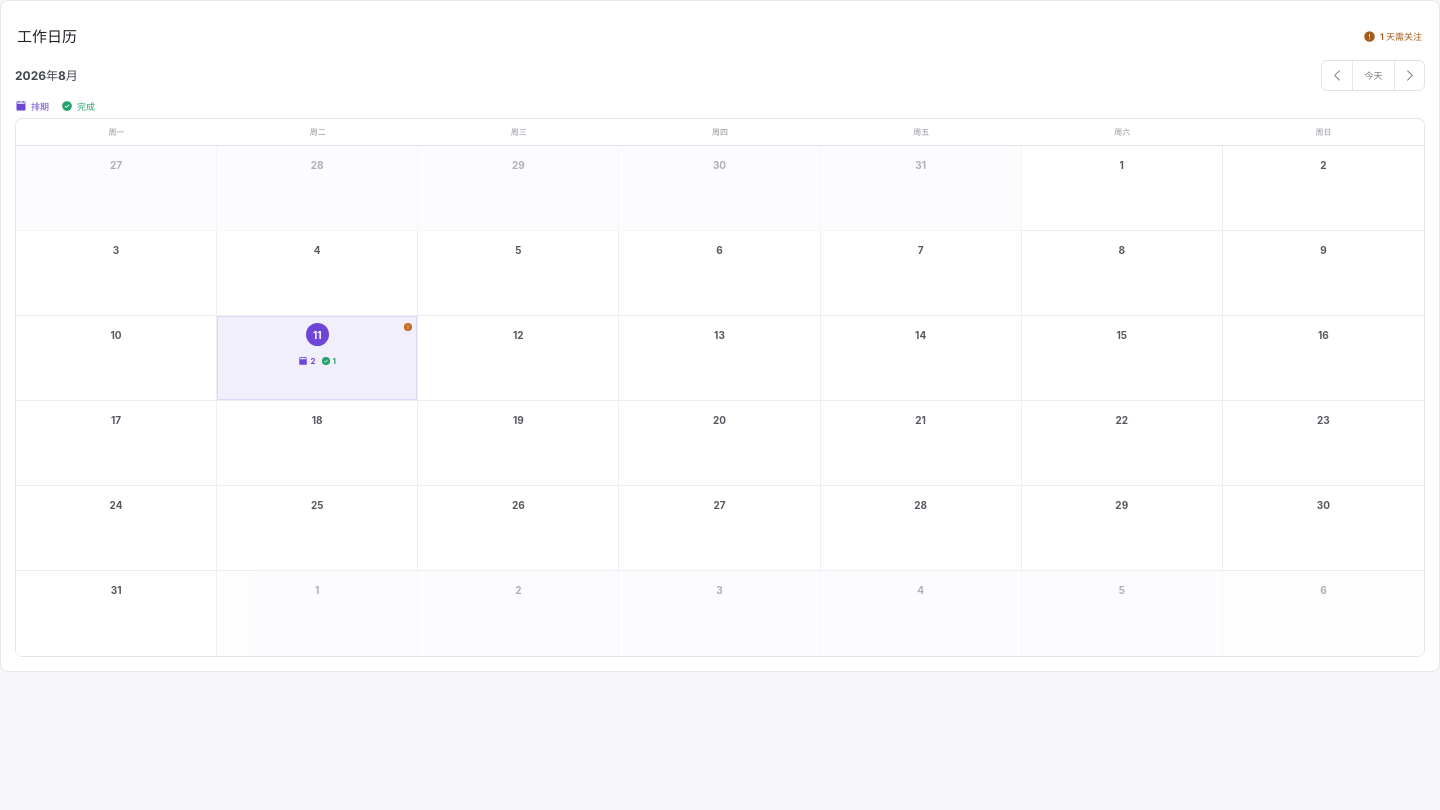
PtraceDesk core interactions › shows scheduled and completed counts in the work calendar and opens daily details
expect the heading "工作日历" is shown: met, box [17,26,77,47]
expect the text "1 天需关注" is shown: met, box [1363,30,1422,43]
Click the cell named "8月11日，排期 2 个，完成 1 个，需要关注" at (318, 358), box [217,316,418,401]
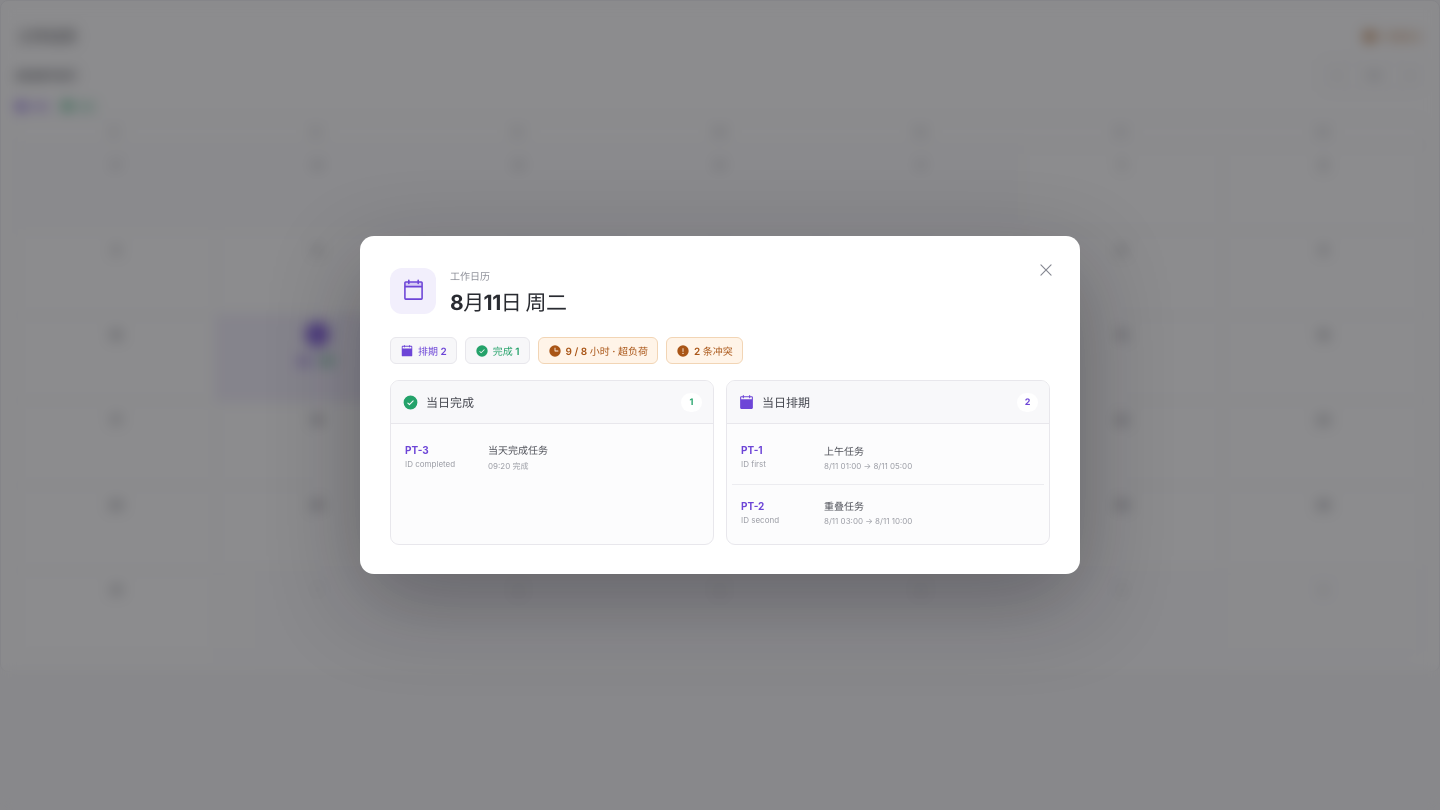
expect the text "9 / 8 小时 · 超负荷" is shown: met, box [538,337,658,364]
expect the text "2 条冲突" is shown: met, box [666,337,743,364]
expect the text "当天完成任务" is shown: met, box [488,442,548,457]
Click the text "上午任务" at (844, 450), box [824,442,864,458]
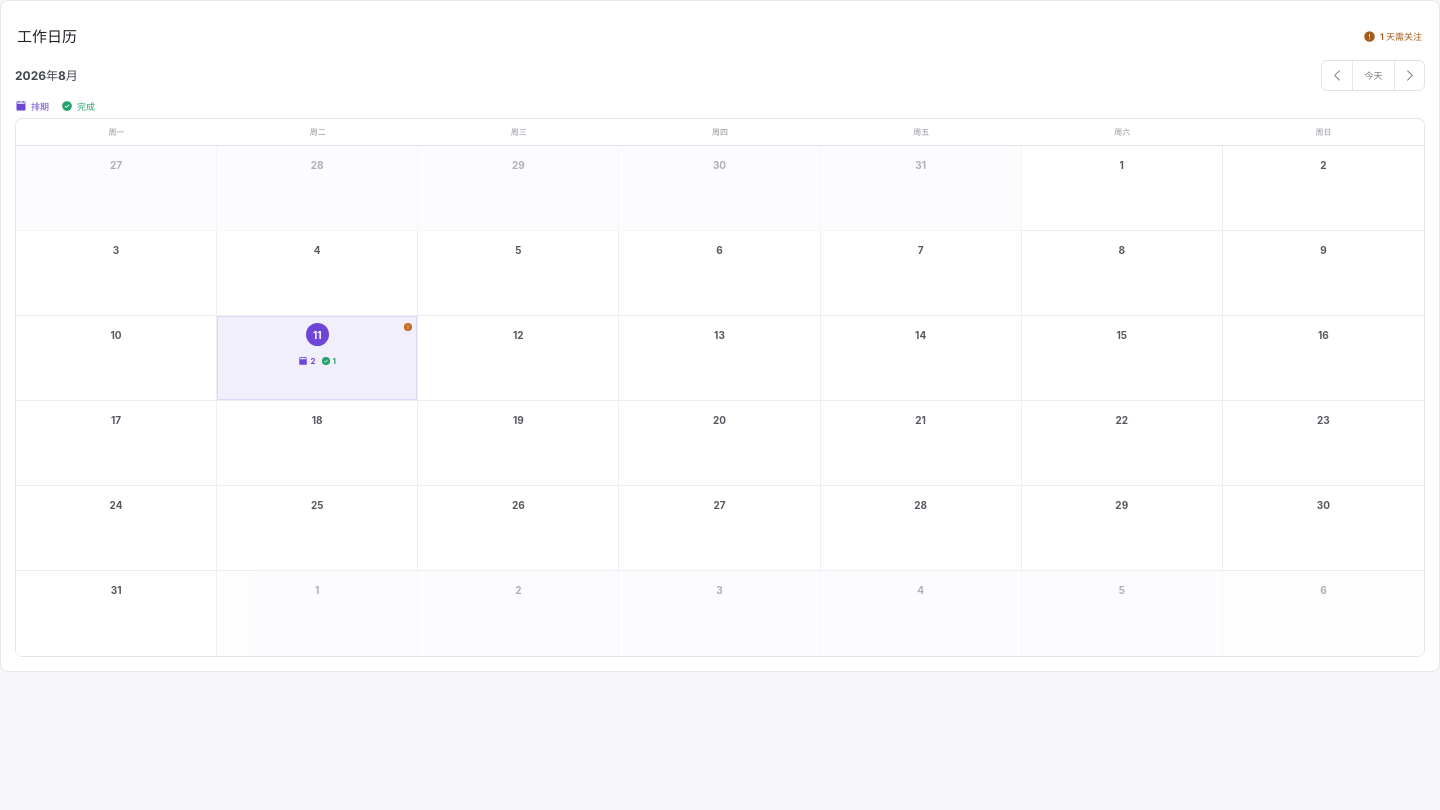
expect the heading "8月11日 周二" is gone: met
